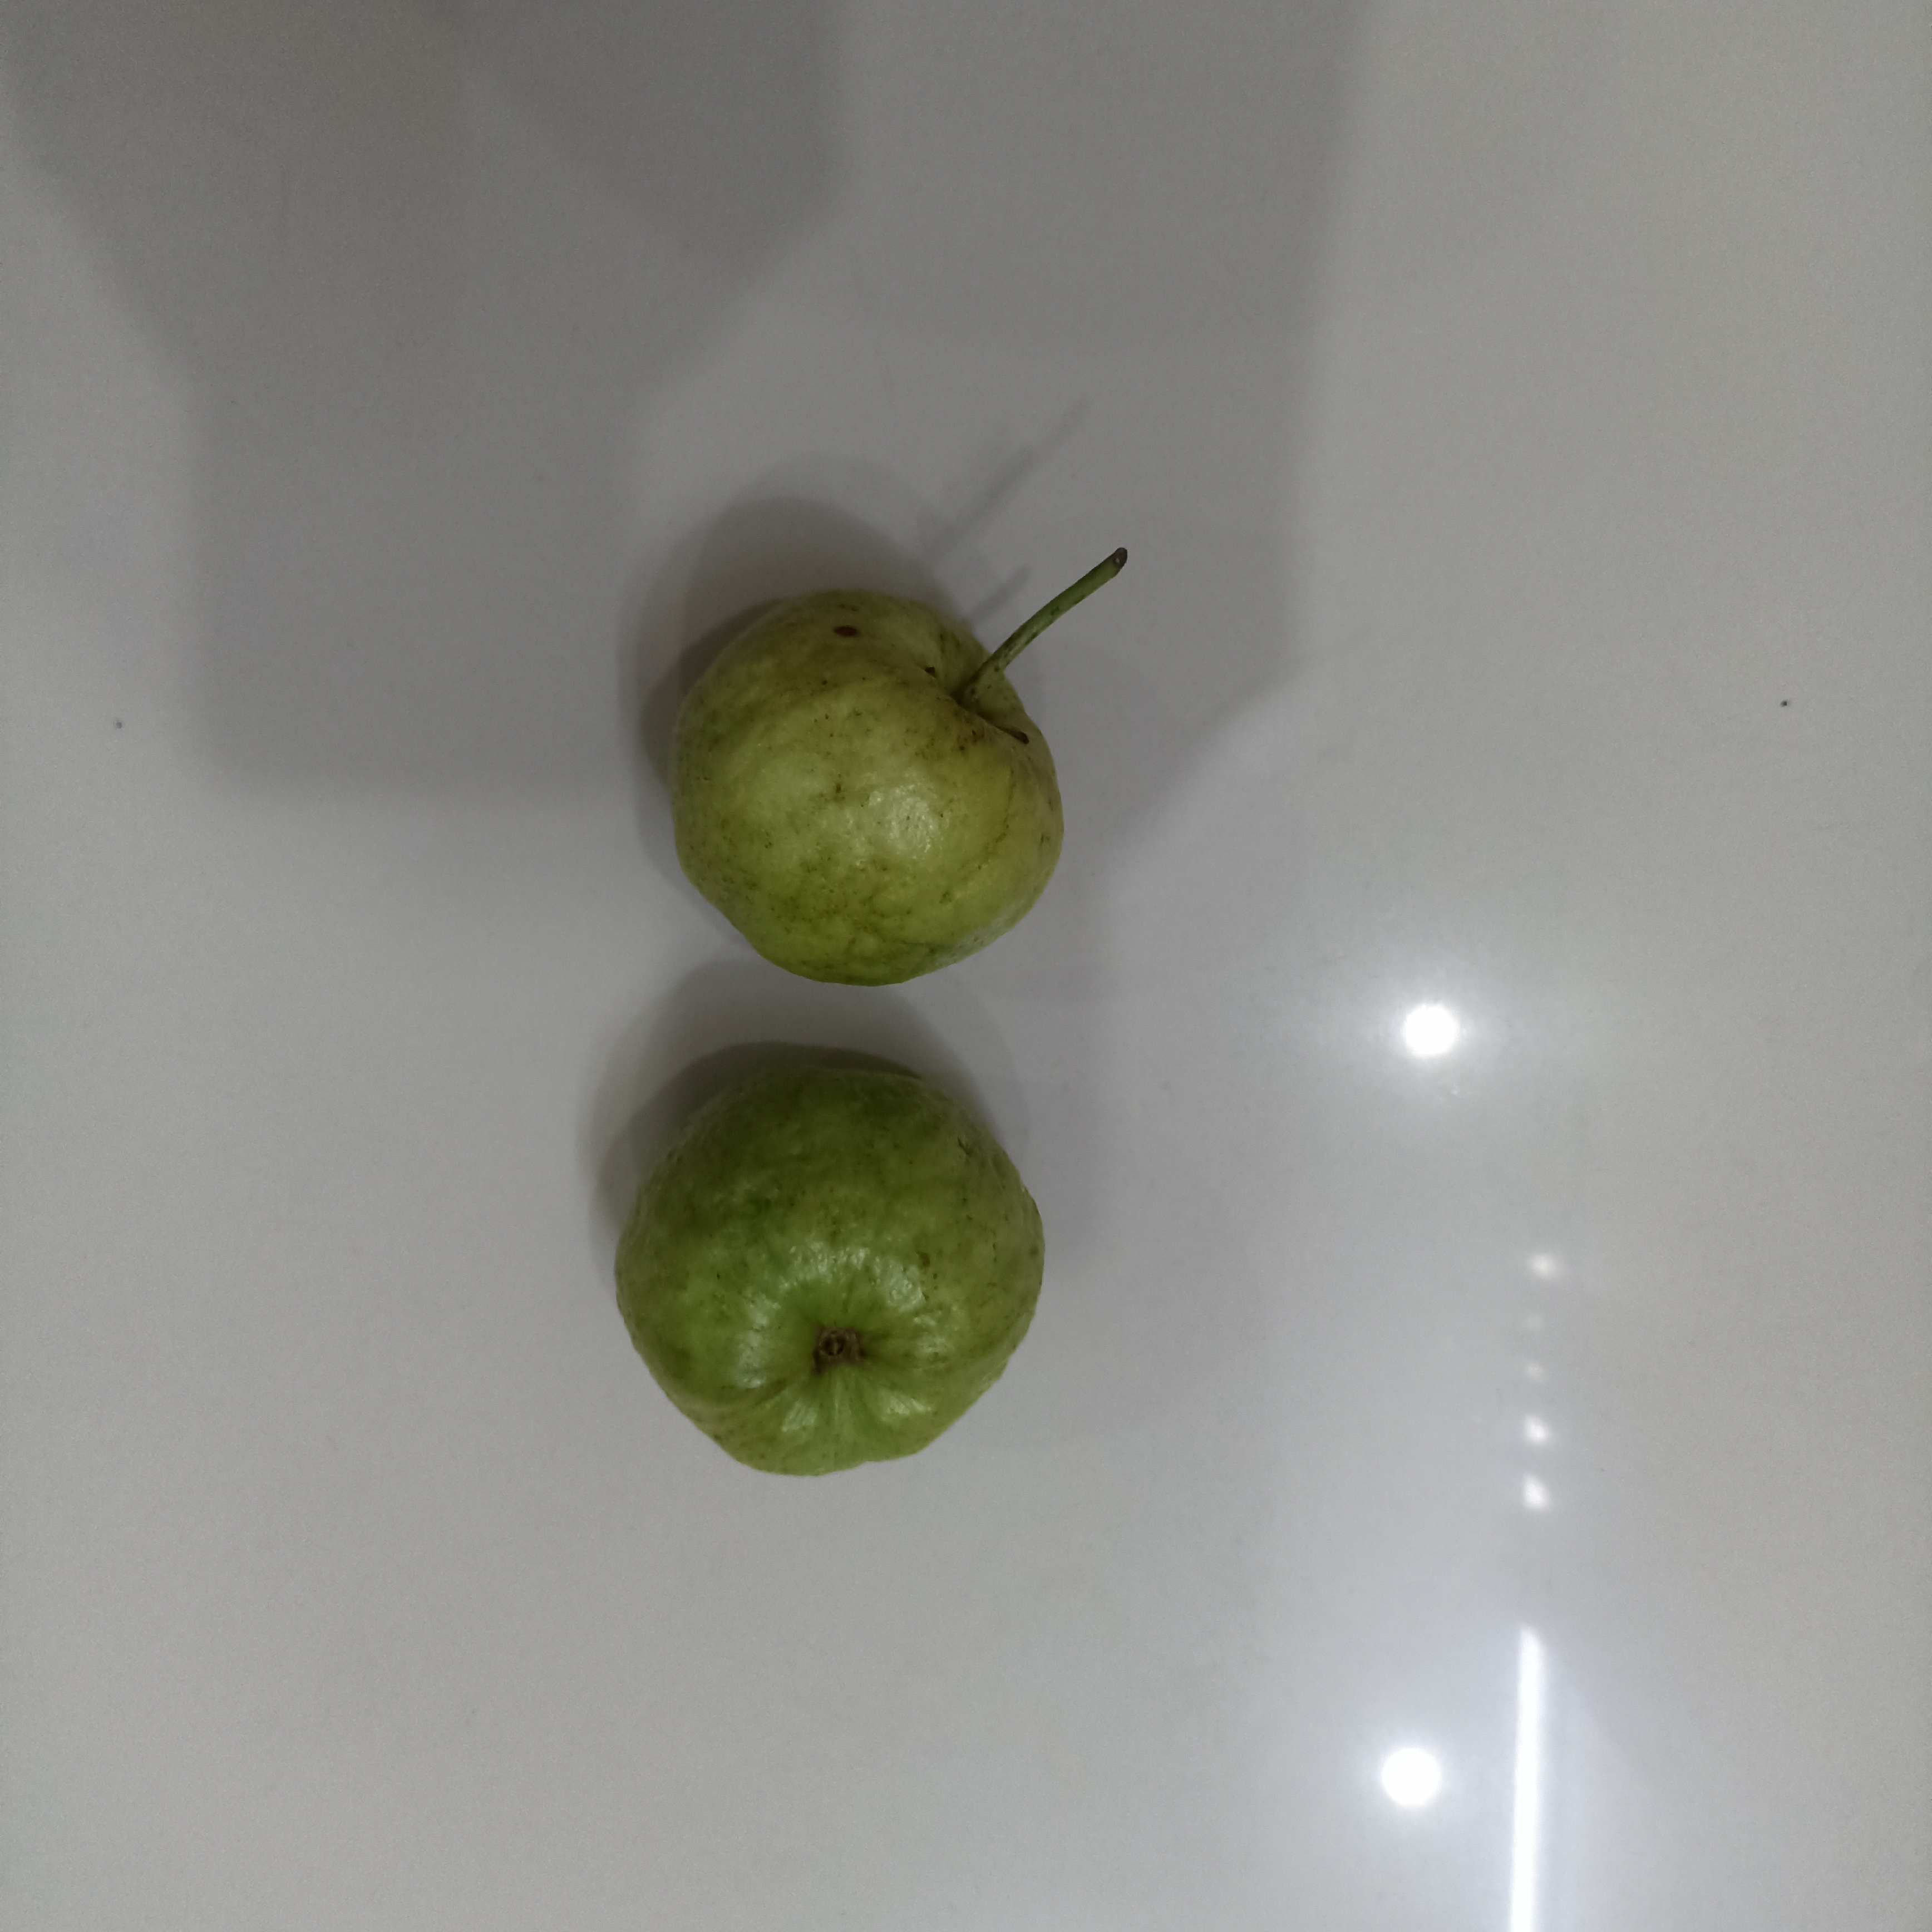Oi: (609, 1059, 1054, 1482), (666, 579, 1065, 989)
